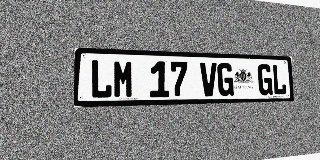1: (150, 61, 169, 97)
7: (169, 61, 188, 97)
G: (217, 63, 234, 96), (257, 64, 273, 95)
L: (90, 59, 112, 99), (272, 64, 287, 95)
M: (113, 60, 134, 98)
V: (200, 62, 217, 96)
